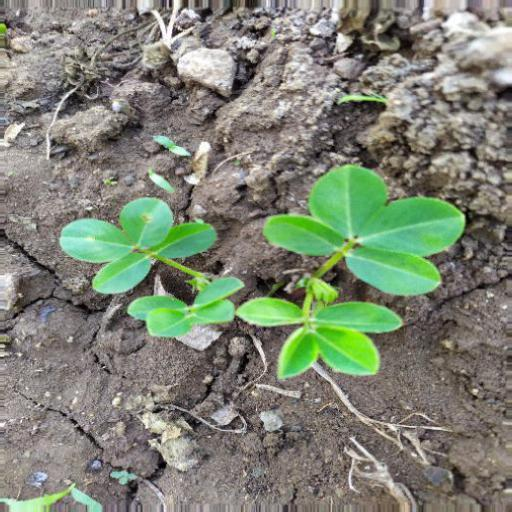weed: (57, 161, 470, 395)
